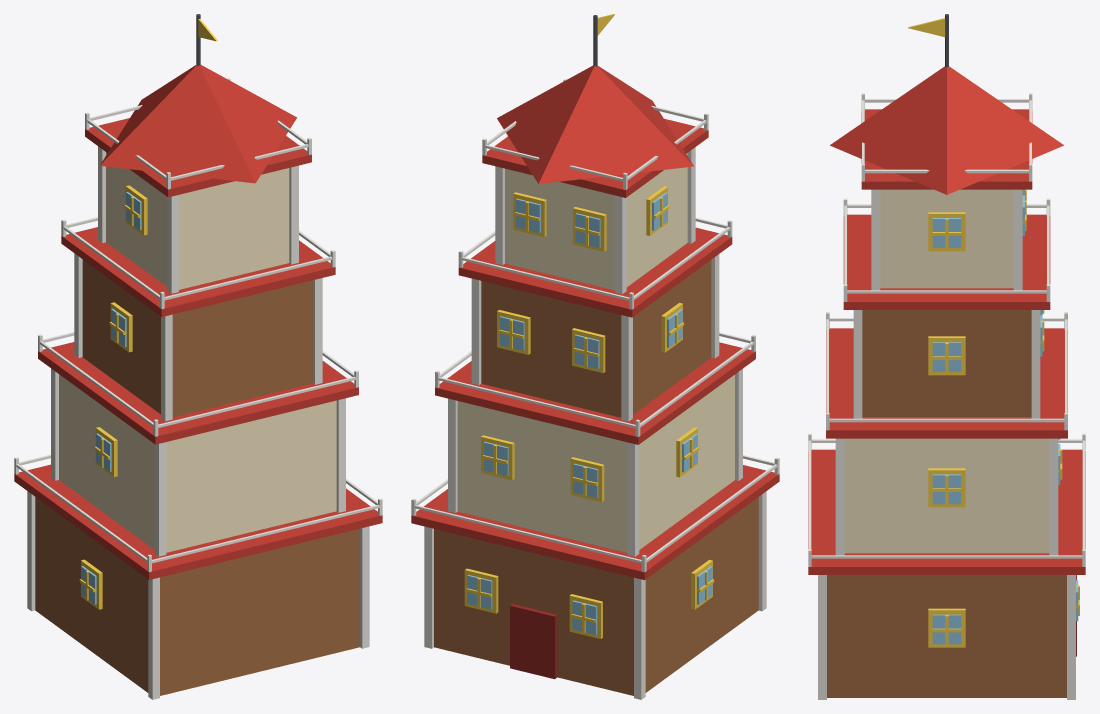
Rendered from HenTower.fbx.
3 renders of one model, left to right at view 1: azimuth 30°, elevation 25°; view 2: azimuth 150°, elevation 25°; view 3: azimuth 270°, elevation 25°, orthographic. The views are drawn at different scales.
Parts seen in each view (by area): view 1: HenTower; view 2: HenTower; view 3: HenTower.
Part boxes in pixels (left/top/right/bottom): HenTower: left=14, top=14, right=382, bottom=699; HenTower: left=411, top=14, right=779, bottom=699; HenTower: left=808, top=14, right=1085, bottom=699.
Size of the model in its own units: 437 by 1095 by 437.
